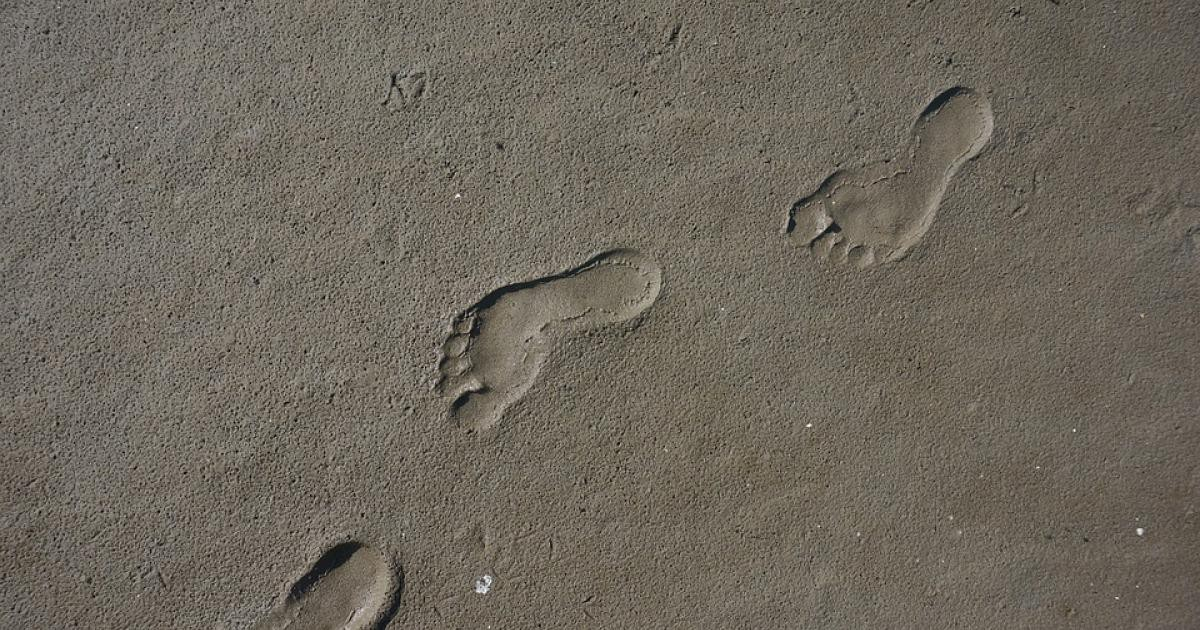human_foot_print: (424, 230, 671, 428), (790, 82, 1012, 270), (265, 534, 416, 630)
